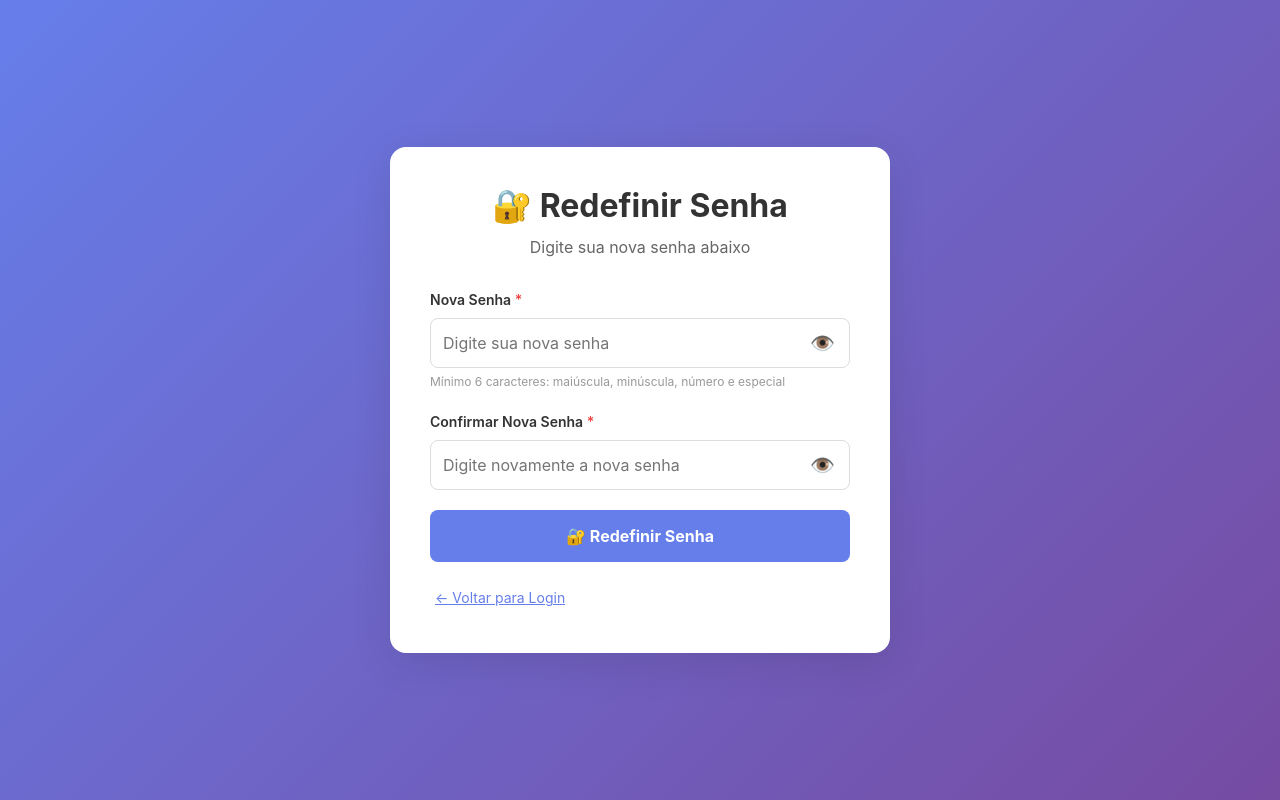
Test case: ResetPassword (público) › valida senha fraca antes de enviar
Type "senha123" into the password field with placeholder "Digite sua nova senha".
click(640, 343); type("senha123")  # box [430,318,850,368]
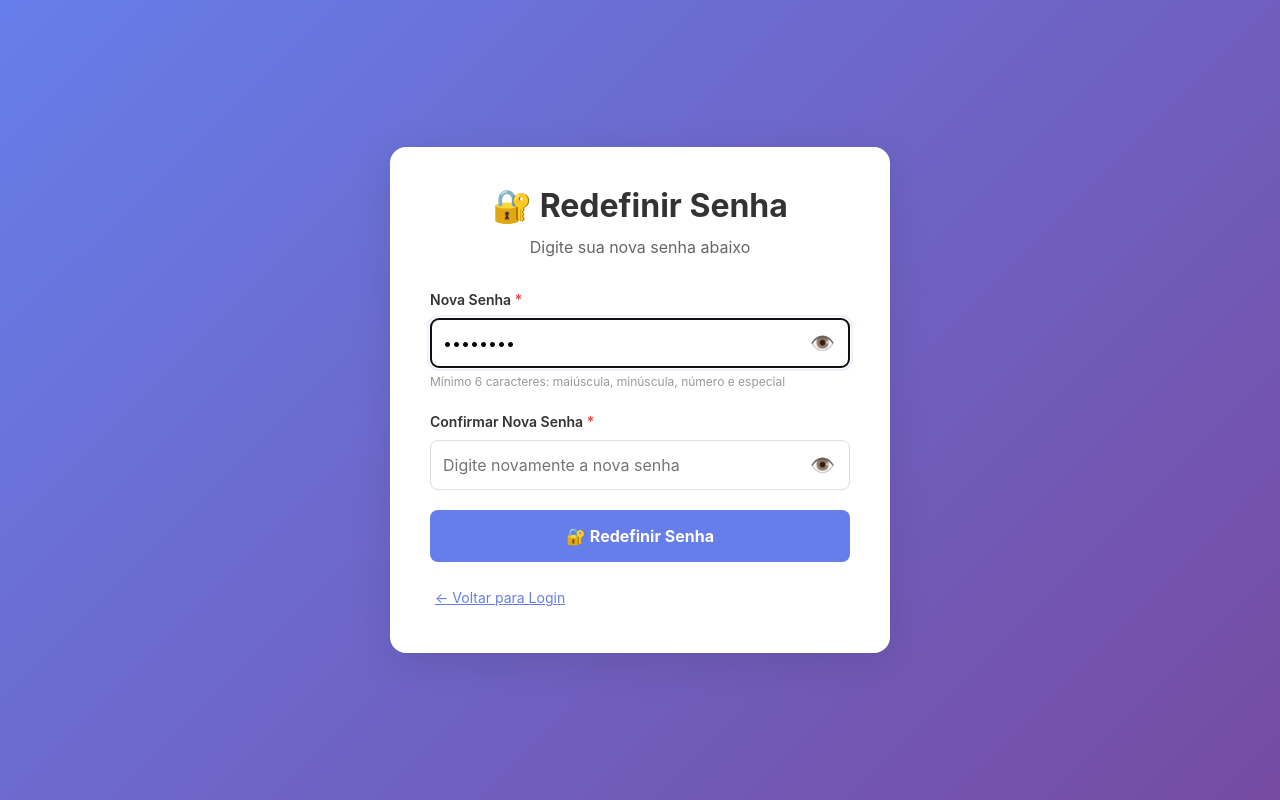
Type "senha123" into the password field with placeholder "Digite novamente a nova senha".
click(640, 465); type("senha123")  # box [430,440,850,490]
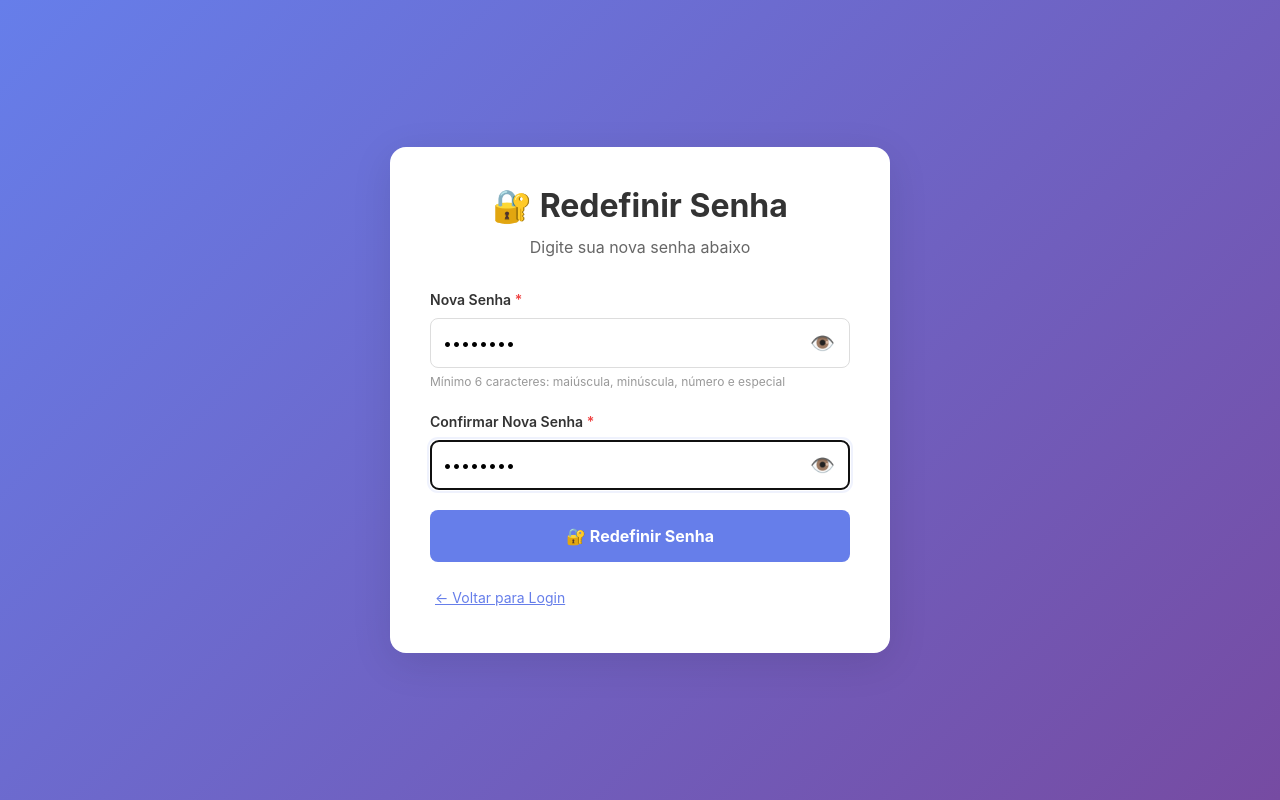
Click the button "🔐 Redefinir Senha".
click(640, 536)  # box [430,510,850,562]
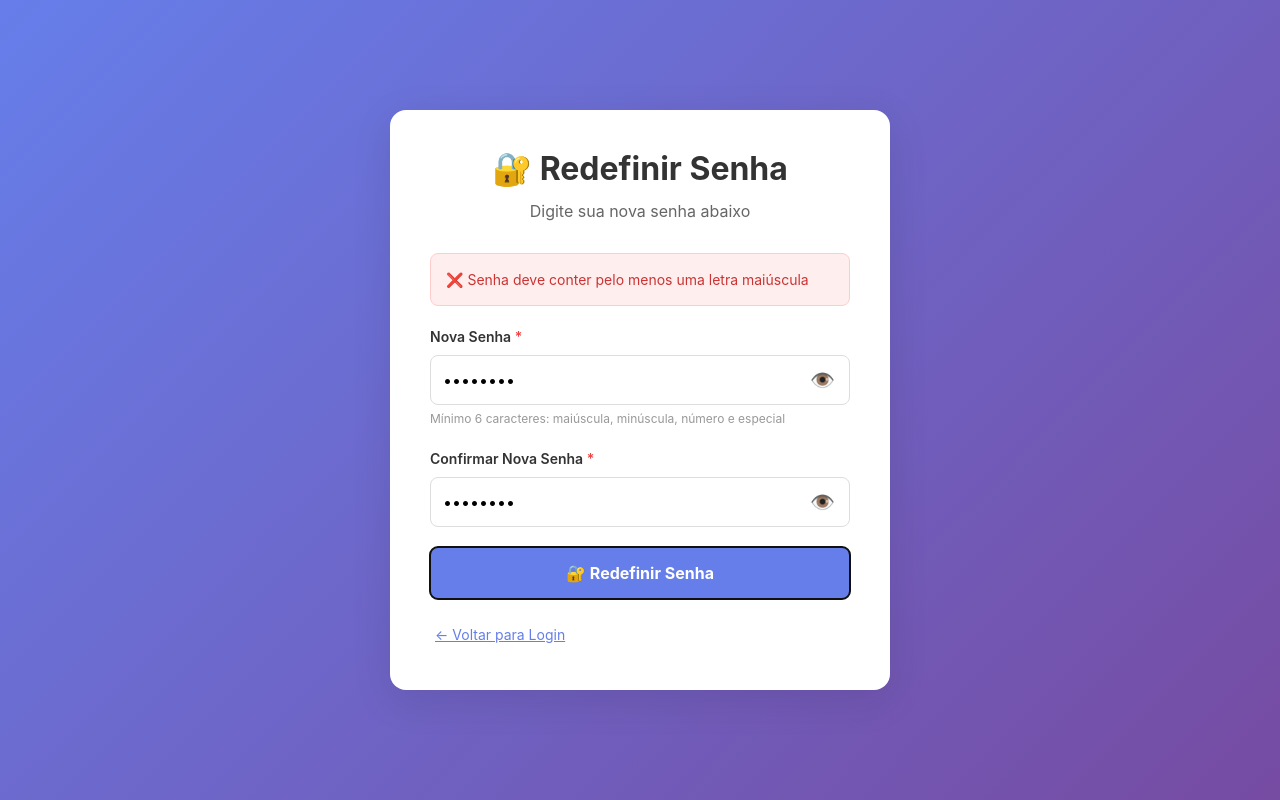
expect the text "❌ Senha deve conter pelo menos uma letra maiúscula" is shown: met, box [430,253,850,306]
